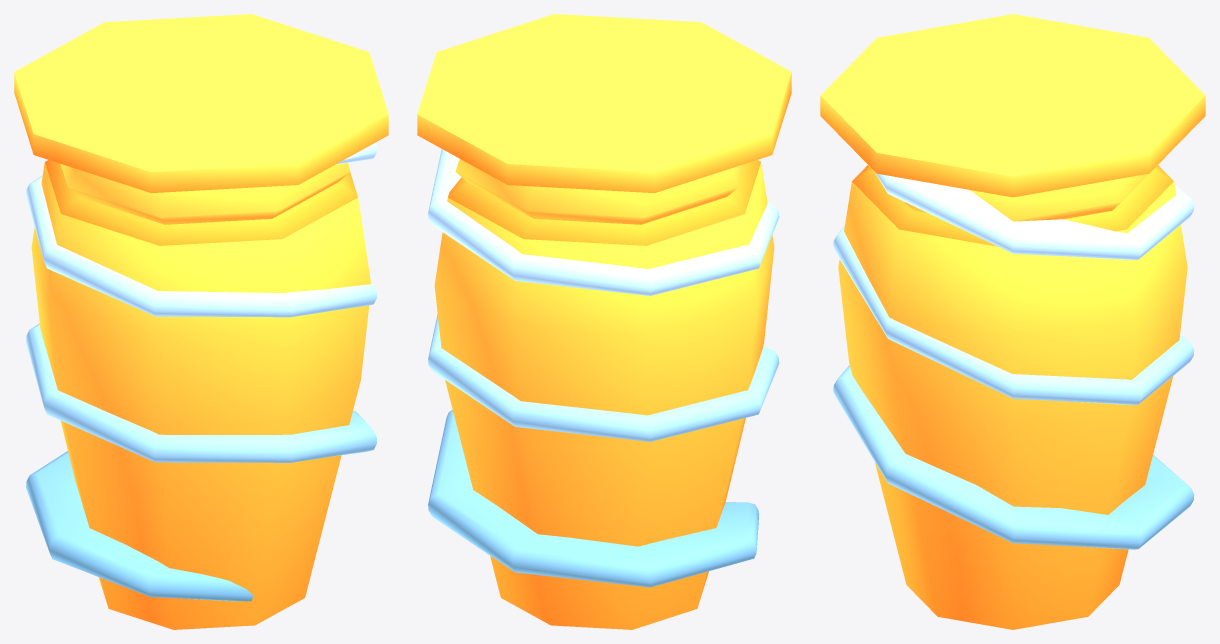
Rendered from gold_and_steel_grip_062.glb.
The picture shows the model from 3 angles, left to right: view 1: azimuth 30°, elevation 25°; view 2: azimuth 150°, elevation 25°; view 3: azimuth 270°, elevation 25°; orthographic projection.
Visible parts, largest first — view 1: gold_and_steel_grip_062; view 2: gold_and_steel_grip_062; view 3: gold_and_steel_grip_062.
Boxes of the visible parts, box(x1,y1,x2,y2) form: gold_and_steel_grip_062: box(14, 14, 388, 629); gold_and_steel_grip_062: box(417, 14, 791, 629); gold_and_steel_grip_062: box(820, 14, 1205, 629).
Bounding box in the file's own units: 2.25 × 3.15 × 2.25.
1 material, 1 textured.
